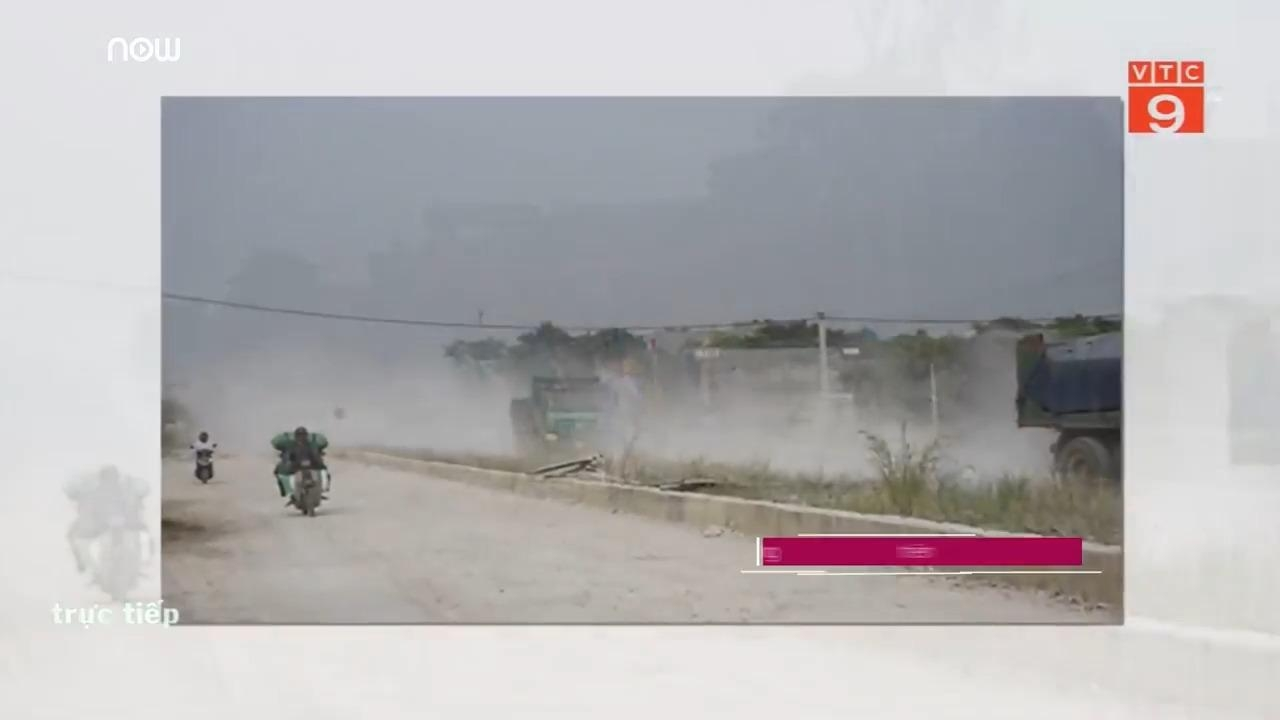motorcycle: (272, 447, 330, 516), (189, 441, 217, 483)
truck: (1013, 327, 1122, 491), (510, 370, 616, 460)
